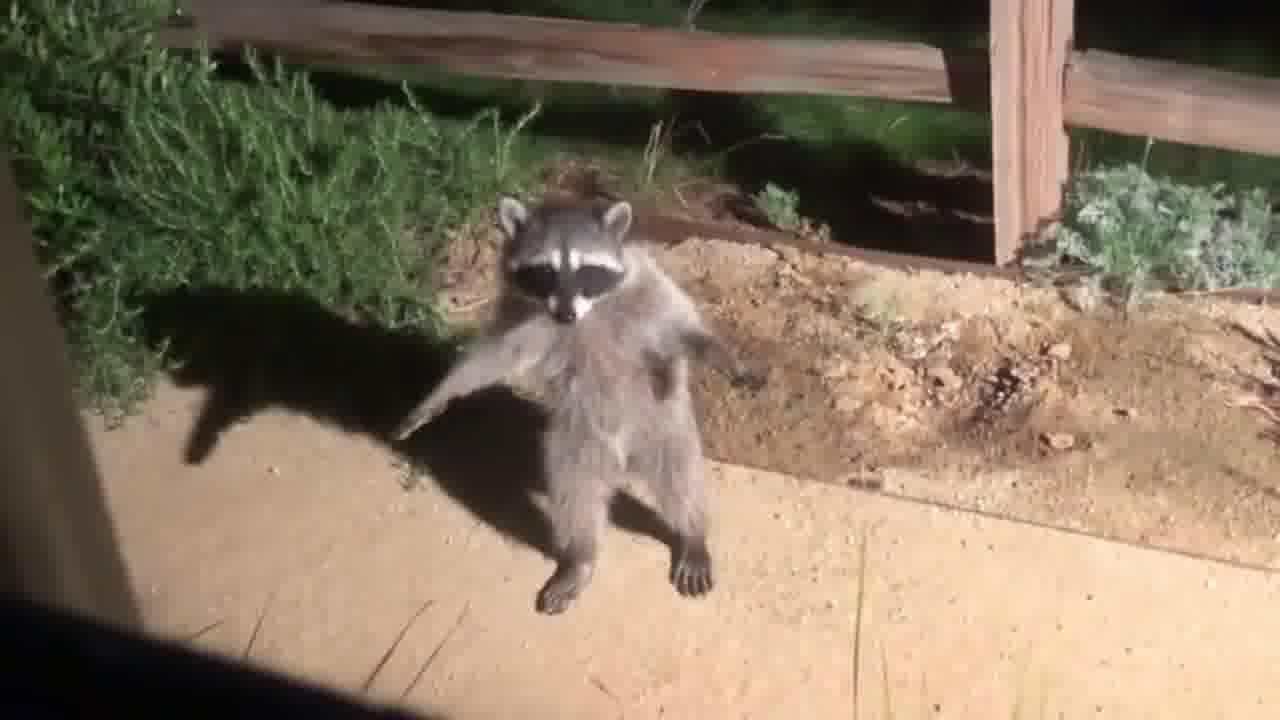raccoon: (392, 197, 773, 615)
